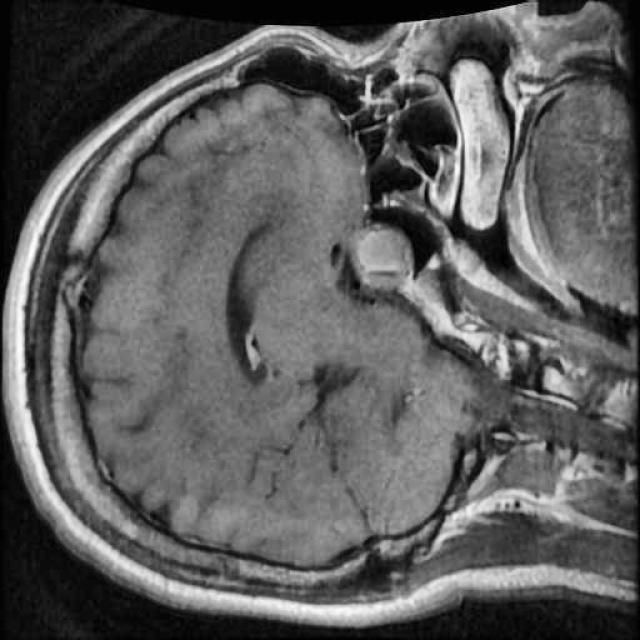Tumor: (340, 214, 428, 304)
